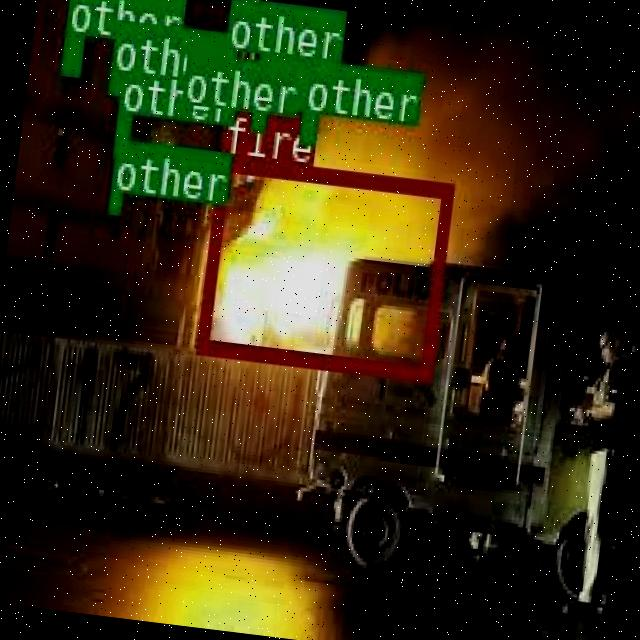fire: (192, 152, 450, 378)
